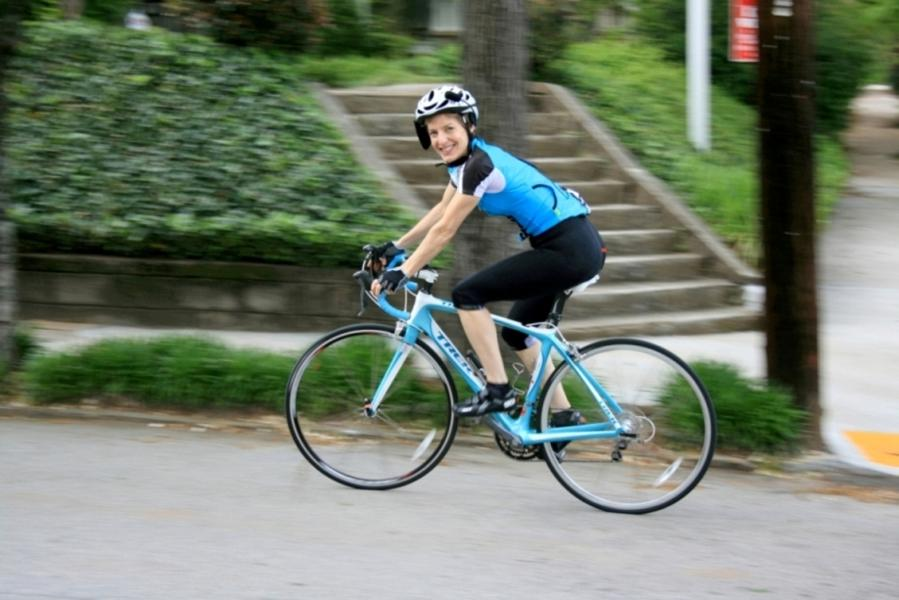person: (359, 85, 608, 454)
